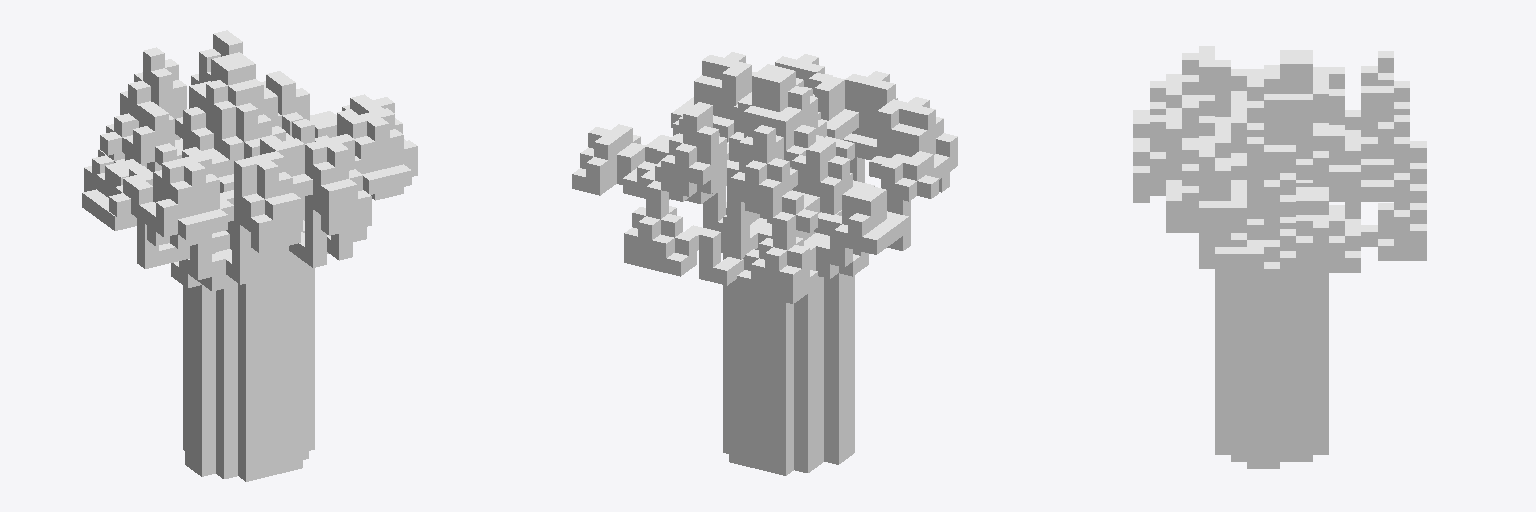
Rendered from Trhee.obj.
3 views of the same model, side by side, from view 1: azimuth 30°, elevation 25°; view 2: azimuth 150°, elevation 25°; view 3: azimuth 270°, elevation 25° (orthographic).
Visible parts, largest first — view 1: object 1; view 2: object 1; view 3: object 1.
Part boxes in pixels (bbox=[...]): object 1: bbox=[82, 30, 417, 481]; object 1: bbox=[572, 52, 957, 475]; object 1: bbox=[1133, 46, 1426, 468].
Bounding box in the file's own units: 2.2 × 2.6 × 1.8.